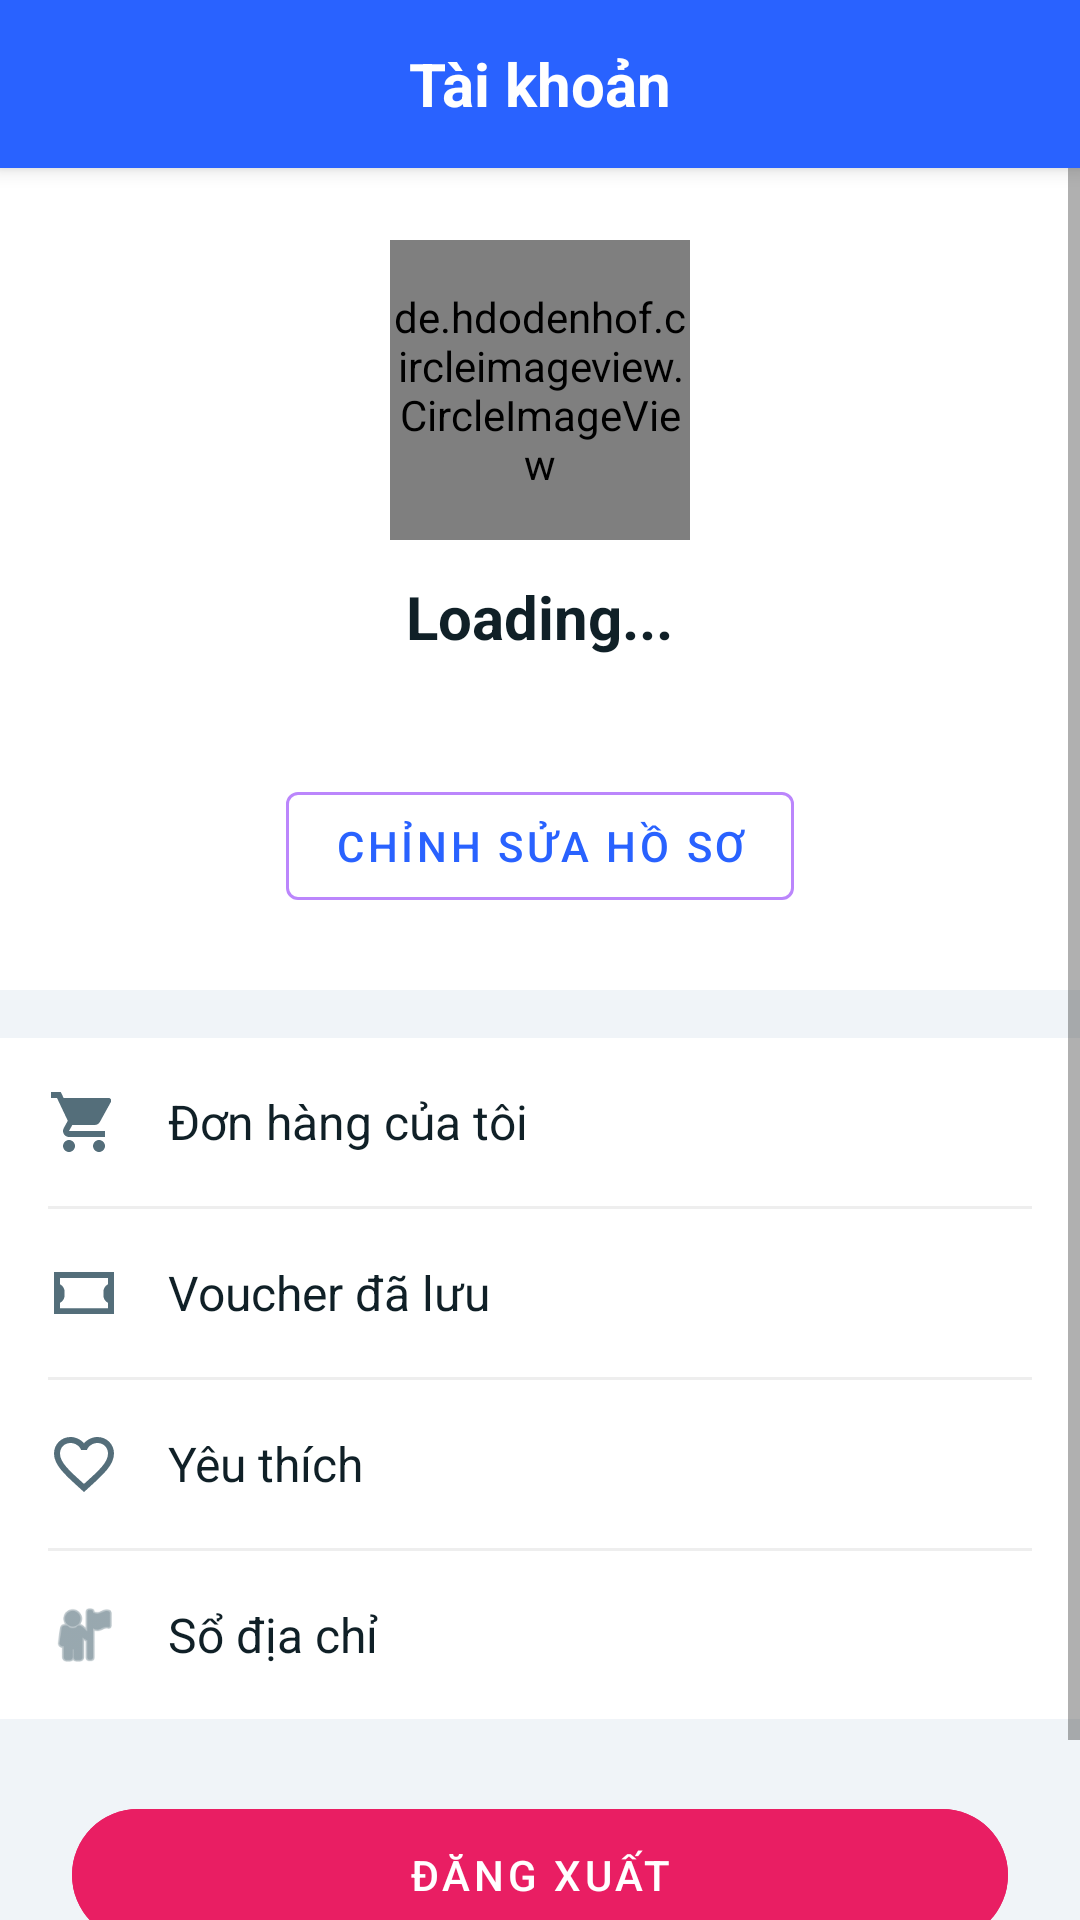

Where icons sit on this 1080px×1920px app screen, as (x1, y1, x2, y2):
cart: (51, 1092, 111, 1152)
favorite border: (54, 1437, 114, 1492)
myplaces: (58, 1608, 112, 1662)
